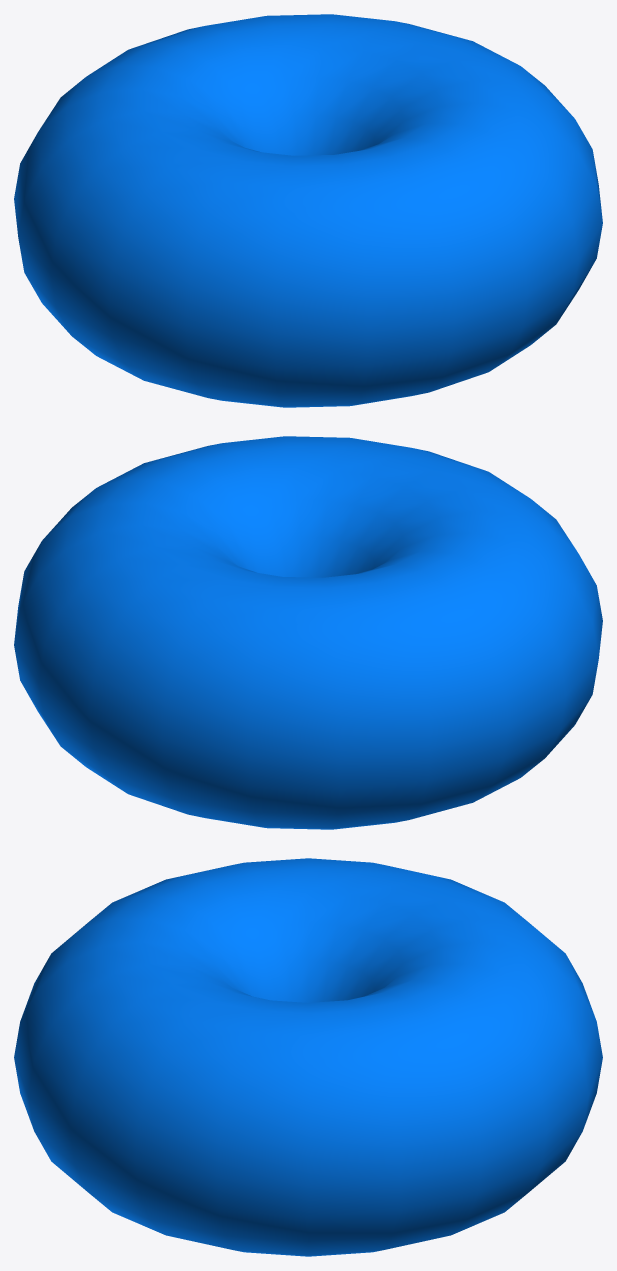
The model's file is ToroideAzul.obj.
The picture shows the model from 3 angles, top to bottom: view 1: azimuth 30°, elevation 25°; view 2: azimuth 150°, elevation 25°; view 3: azimuth 270°, elevation 25°; orthographic projection.
Visible parts, largest first — view 1: pasted__pasted__pTorus3 pasted__group4 group5; view 2: pasted__pasted__pTorus3 pasted__group4 group5; view 3: pasted__pasted__pTorus3 pasted__group4 group5.
Part boxes in pixels (bbox=[...]): pasted__pasted__pTorus3 pasted__group4 group5: bbox=[14, 14, 602, 407]; pasted__pasted__pTorus3 pasted__group4 group5: bbox=[14, 436, 602, 829]; pasted__pasted__pTorus3 pasted__group4 group5: bbox=[14, 858, 602, 1256].
Size of the model in its own units: 2.25 by 0.9641 by 2.22.
Materials: 1 (1 with a texture image).
